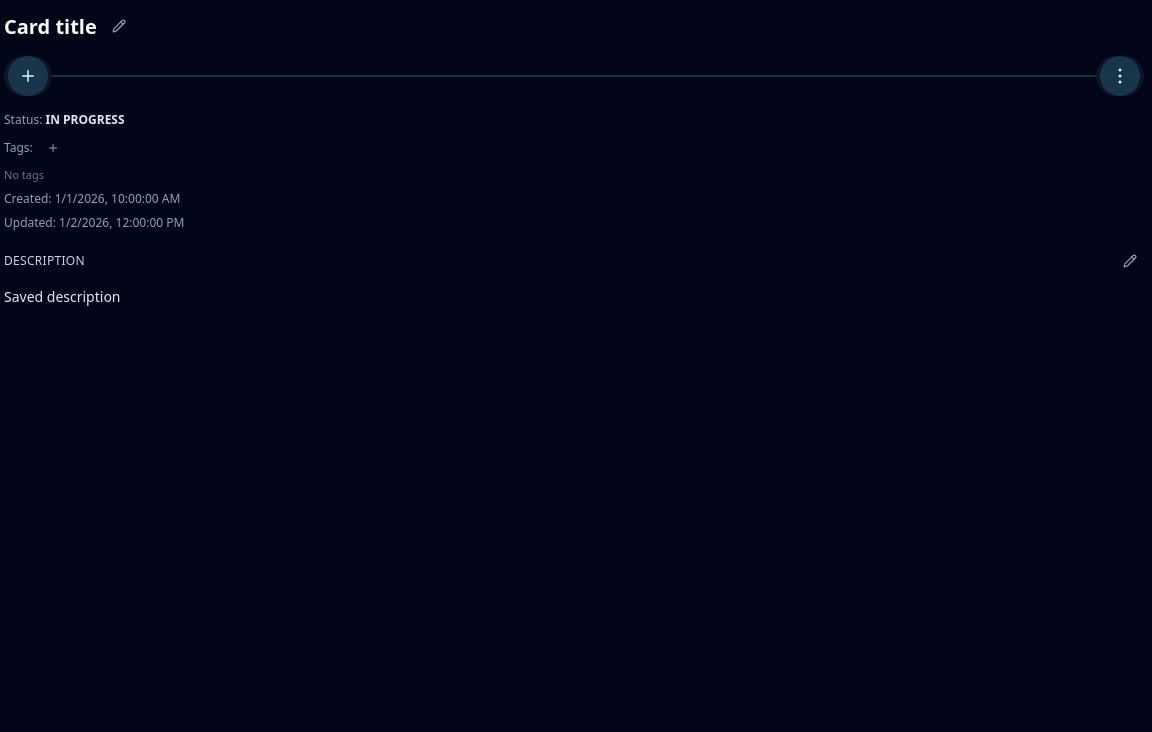
TodoModalDetailsPanel › closes tags selector on outside click
Step 1. Click the button with test id "todo-tags-toggle" → (53, 148), box [41,136,65,160]
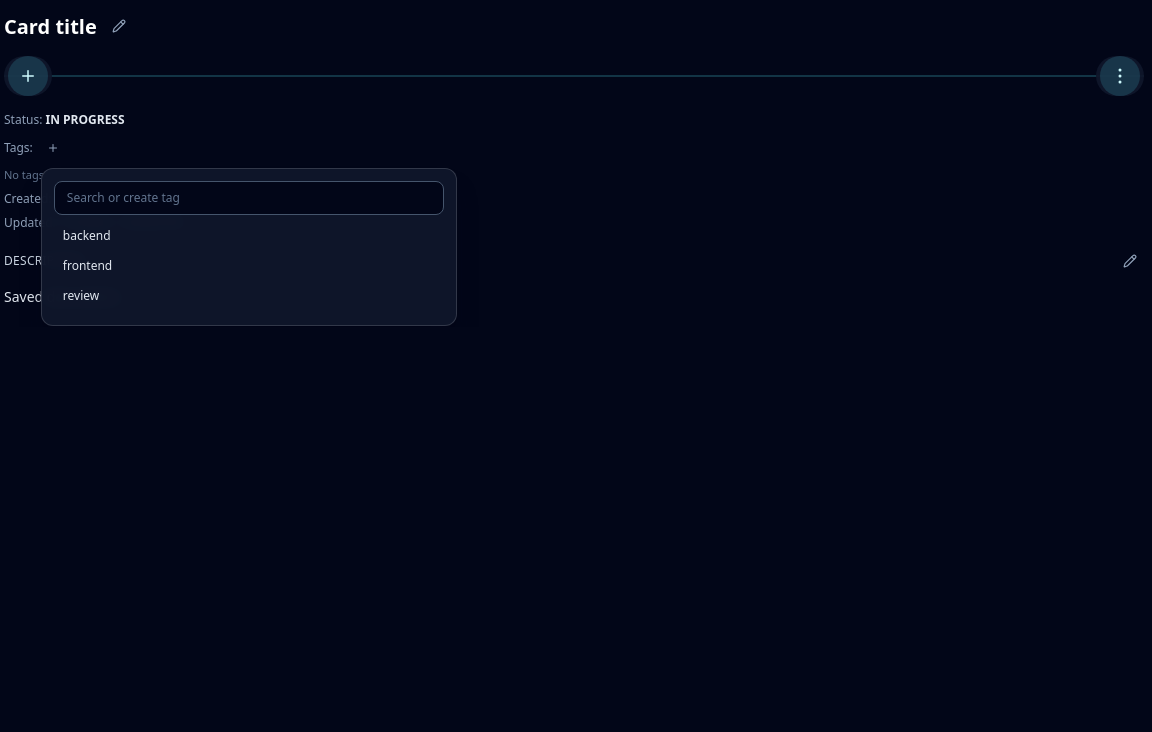
Now the element with test id "todo-tags-selector" is shown, box [41,168,457,326]
Step 2. Press the mouse on the element that starts with "Card" → (576, 372), box [0,12,1151,731]
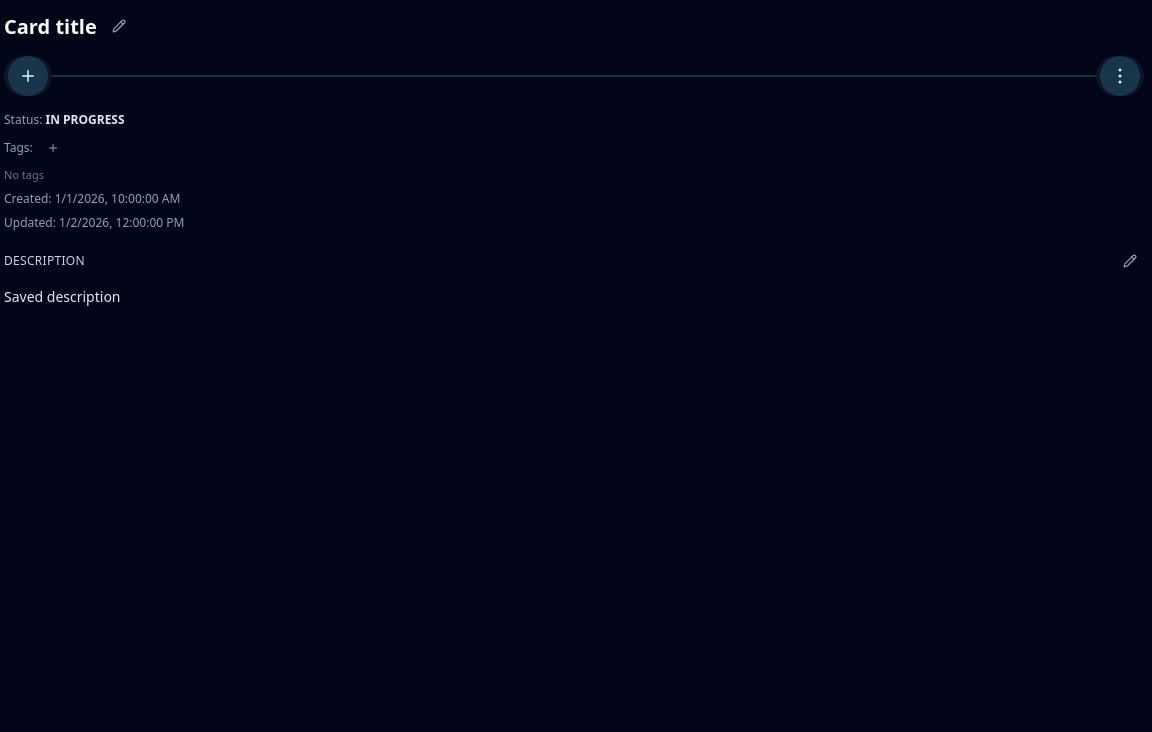
Now the element with test id "todo-tags-selector" is gone
